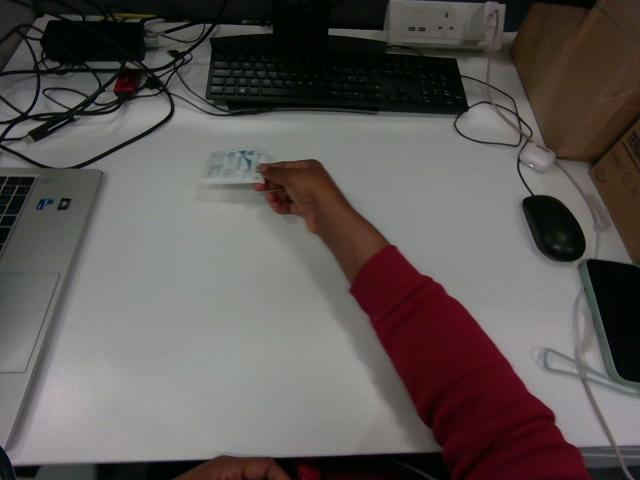gauze: (200, 147, 266, 183)
